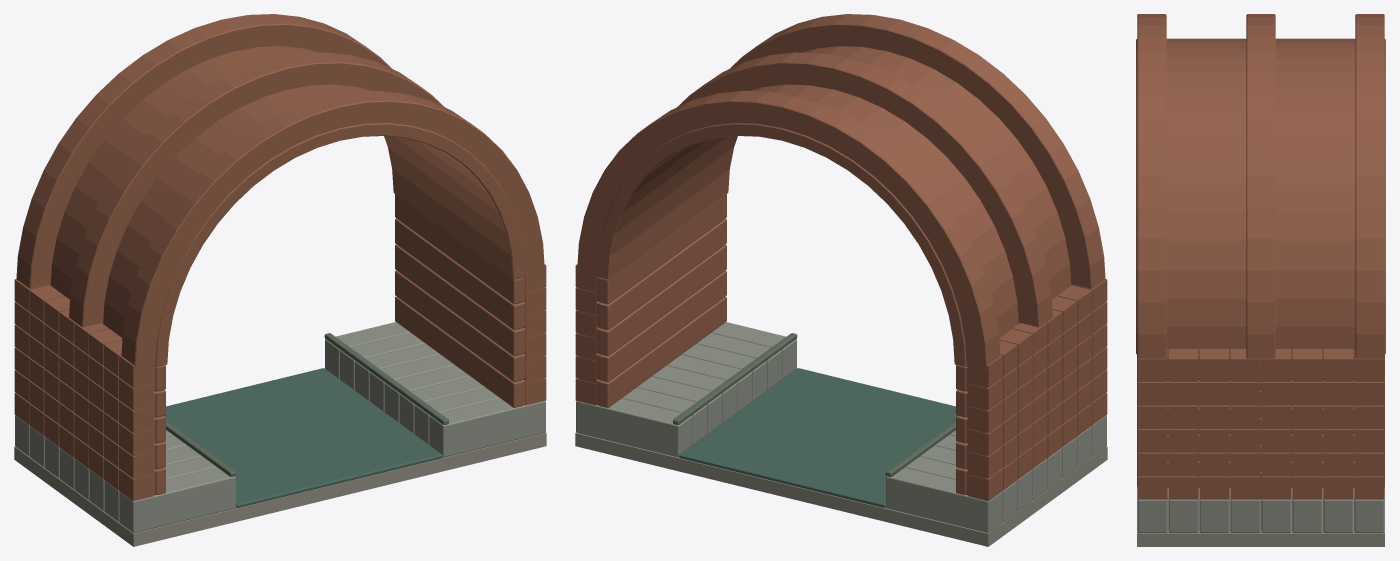
File: undercity-sewers-and-thieves-den-brick-barrel-short-9566651c__25027.glb
3 renders of one model, left to right at view 1: azimuth 30°, elevation 25°; view 2: azimuth 150°, elevation 25°; view 3: azimuth 270°, elevation 25°, orthographic. The views are drawn at different scales.
Visible parts, largest first — view 1: brick-barrel-short; view 2: brick-barrel-short; view 3: brick-barrel-short.
Boxes of the visible parts, x1,y1,x2,y2 form: brick-barrel-short: (14, 14, 546, 546); brick-barrel-short: (575, 14, 1107, 546); brick-barrel-short: (1136, 14, 1385, 546).
Bounding box in the file's own units: 4 × 3.61 × 2.02.
